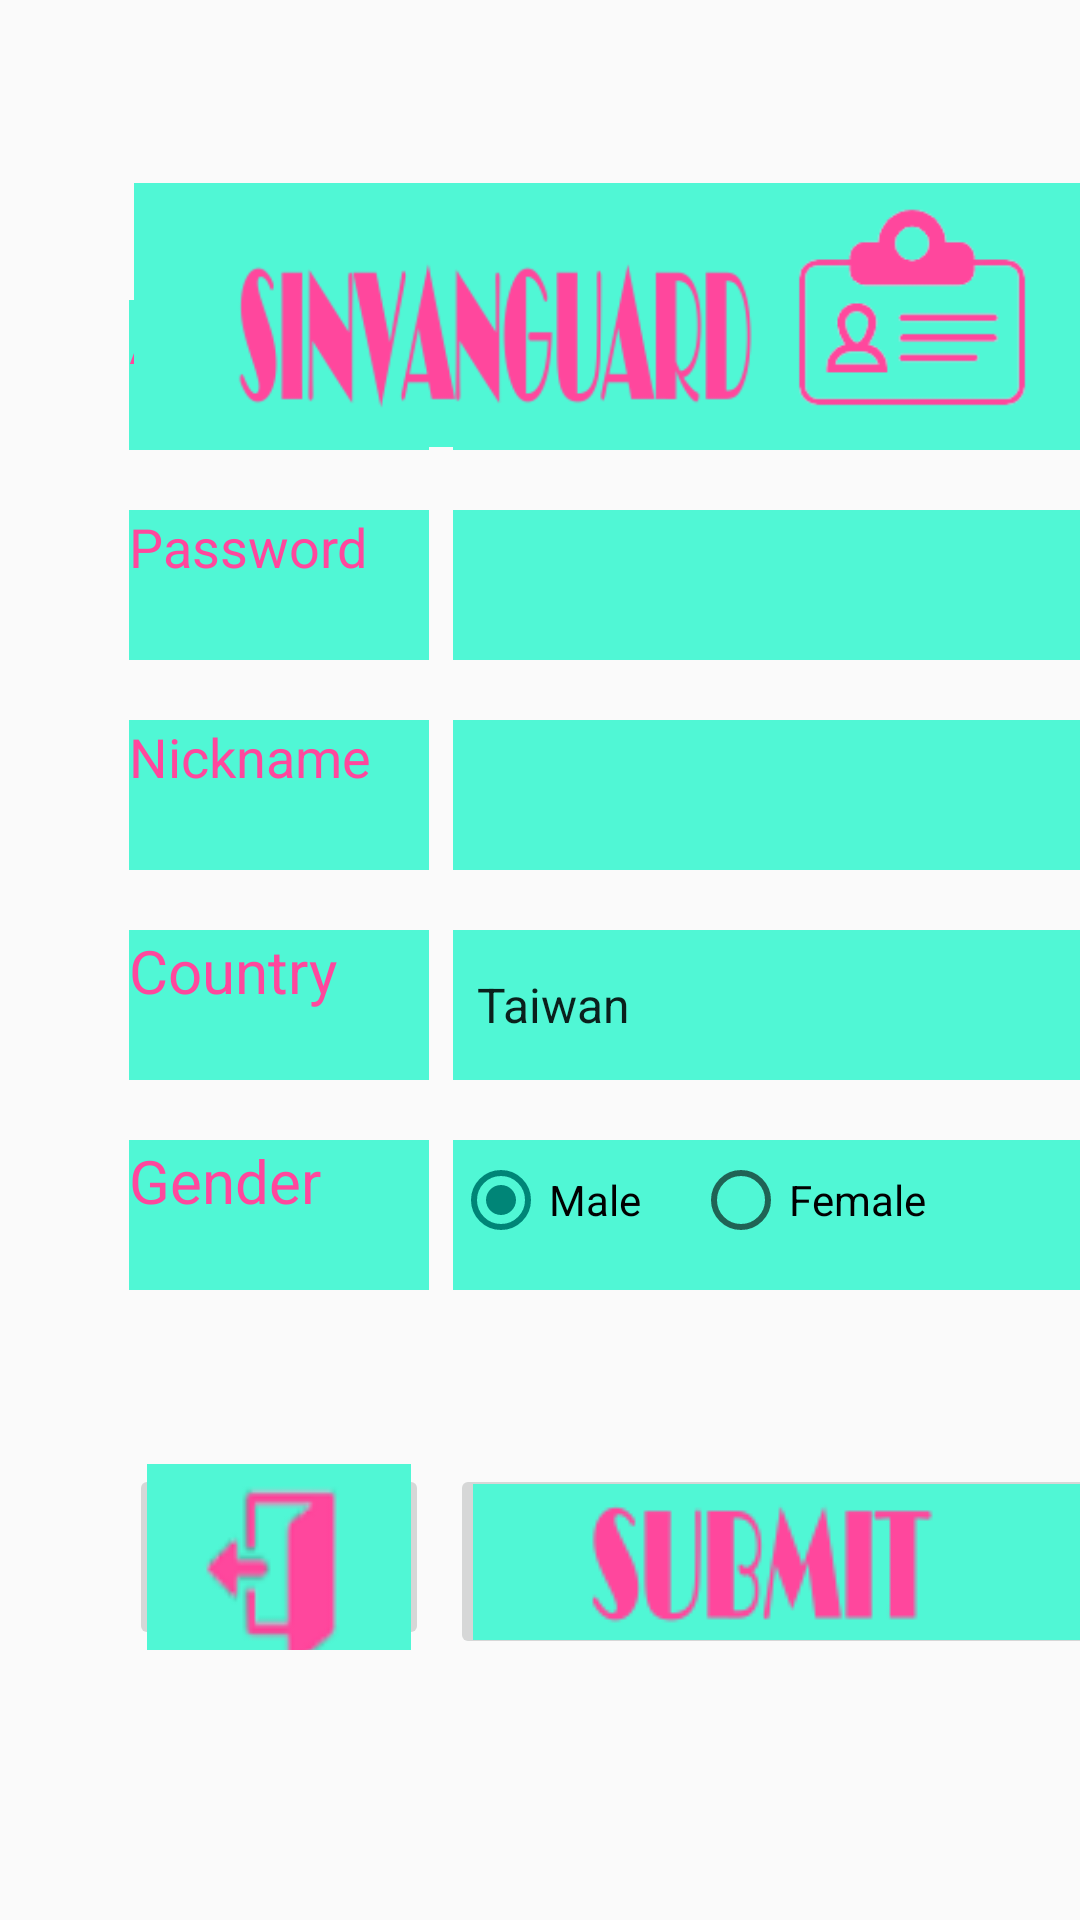

Named icons in this screenshot (1080x1920) and their centers, [x,y]:
outttt: [279,1557]
